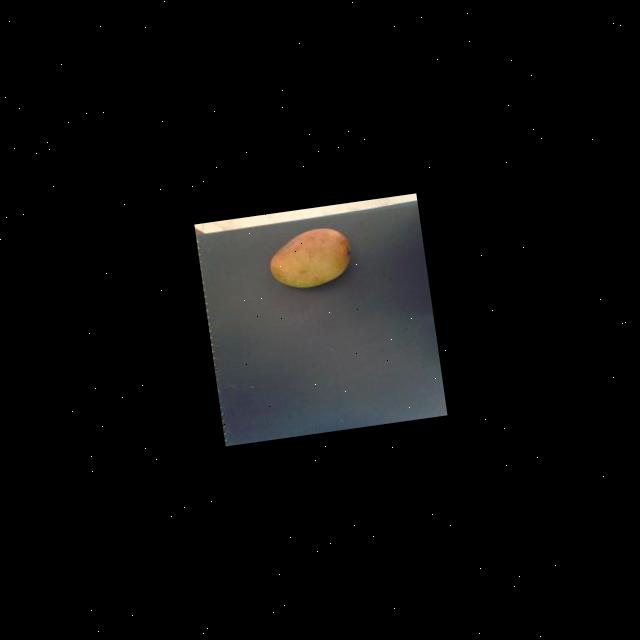Mango: (263, 224, 354, 294)
